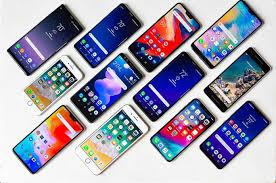Smartphone: (9, 6, 76, 74), (130, 5, 202, 67), (15, 109, 77, 178), (131, 52, 200, 114), (78, 106, 143, 171), (196, 0, 258, 60), (18, 61, 79, 118), (209, 48, 269, 105), (78, 7, 139, 62), (72, 71, 144, 115), (151, 161, 152, 161)
